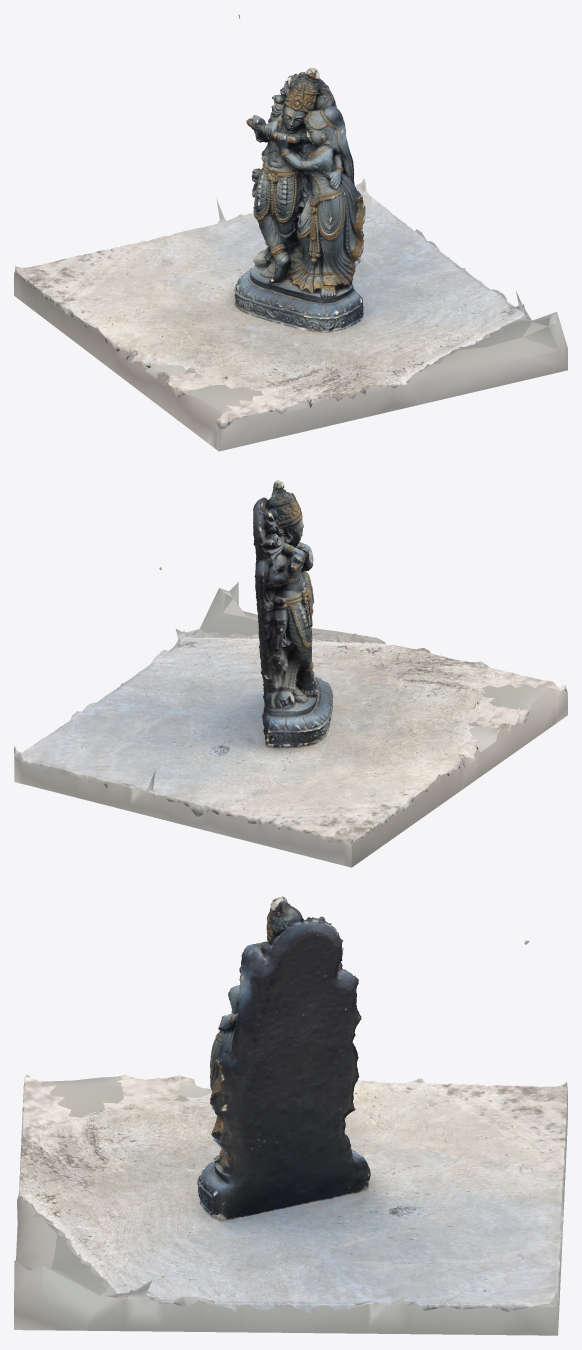
Rendered from radha-krishna.glb.
3 views of the same model, one above another, from view 1: azimuth 30°, elevation 25°; view 2: azimuth 150°, elevation 25°; view 3: azimuth 270°, elevation 25° (orthographic). The views are drawn at different scales.
Parts seen in each view (by area): view 1: model; view 2: model; view 3: model.
Boxes of the visible parts, box(x1,y1,x2,y2) form: model: box(14, 14, 567, 451); model: box(14, 480, 567, 867); model: box(14, 896, 567, 1335).
Bounding box in the file's own units: 0.3122 × 0.2227 × 0.3299.
Materials: 1 (1 with a texture image).
